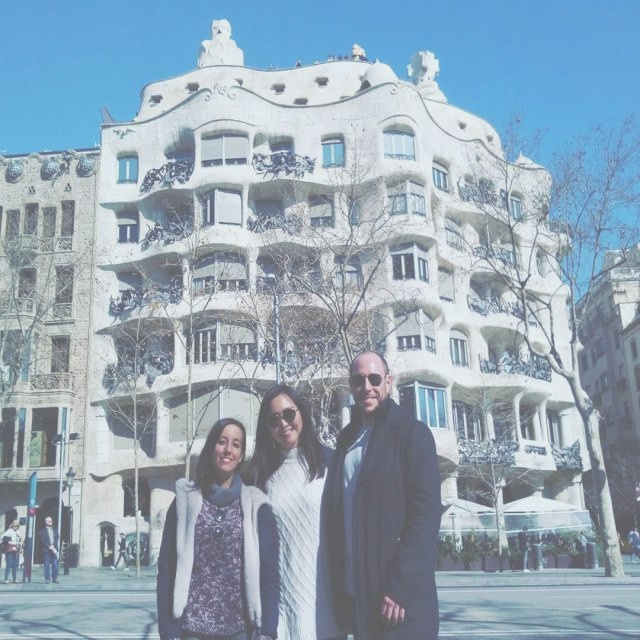pessoa: (323, 350, 446, 640), (156, 416, 282, 640), (247, 383, 350, 640), (38, 515, 61, 584), (0, 518, 22, 586), (109, 531, 130, 571), (516, 525, 532, 572), (626, 524, 640, 565), (578, 528, 588, 567), (470, 526, 490, 543), (538, 526, 556, 542), (19, 536, 26, 570), (614, 528, 621, 546)
